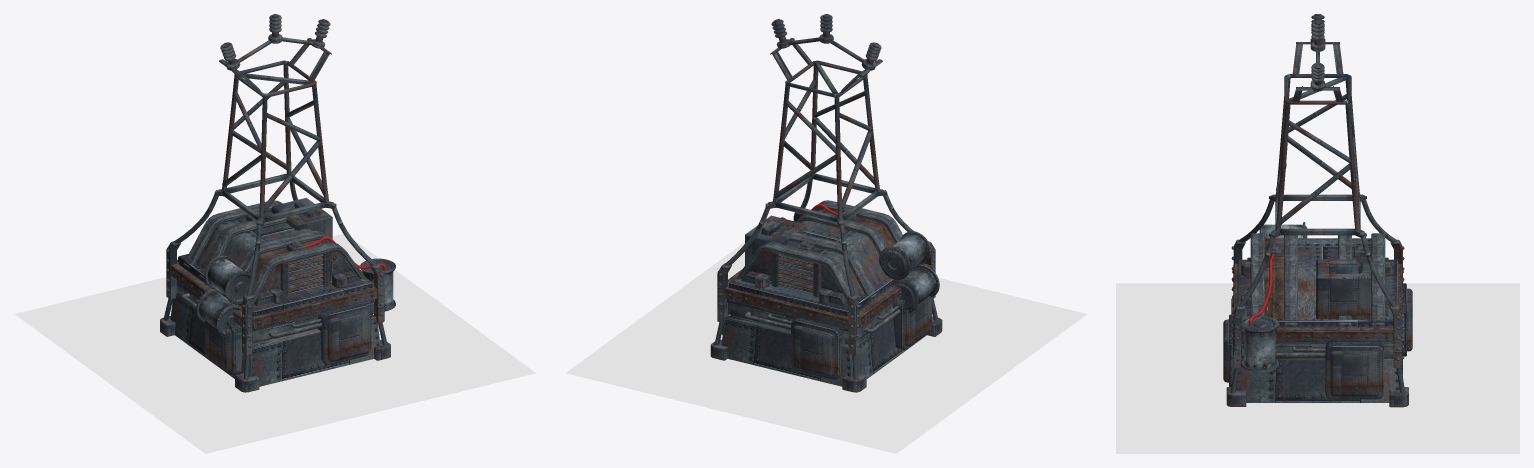
The model's file is static.glb.
The picture shows the model from 3 angles, left to right: view 1: azimuth 30°, elevation 25°; view 2: azimuth 150°, elevation 25°; view 3: azimuth 270°, elevation 25°; orthographic projection. The views are drawn at different scales.
Visible parts, largest first — view 1: scorch, Boole_2, Sweep_12, Cube_1_11, Cube, Cube_2, Sweep_13, Sweep_16, Boole, Sweep_14, Cube_2_3, Extrude (+13 smaller); view 2: scorch, Boole_2, Sweep_12, Cube_1_11, Cube_3, Cube_2_4, Sweep_14, Sweep_15, Cylinder_1_2, Boole, Extrude_3, Cube_2_3 (+12 smaller); view 3: scorch, Boole_2, Sweep_12, Cube_1_11, Boole, Cube_4, Cube_2_5, Sweep_15, Sweep_16, Cylinder_8, Extrude_4, Sweep_11 (+11 smaller).
Boxes of the visible parts, x1=… form: scorch: x1=15, y1=234, x2=535, y2=453; Boole_2: x1=170, y1=254, x2=380, y2=386; Sweep_12: x1=183, y1=200, x2=365, y2=305; Cube_1_11: x1=196, y1=210, x2=353, y2=293; Cube: x1=327, y1=310, x2=369, y2=361; Cube_2: x1=252, y1=286, x2=377, y2=328; Sweep_13: x1=243, y1=96, x2=267, y2=379; Sweep_16: x1=312, y1=84, x2=387, y2=345; Boole: x1=271, y1=198, x2=332, y2=239; Sweep_14: x1=163, y1=77, x2=238, y2=320; Cube_2_3: x1=205, y1=320, x2=231, y2=371; Extrude: x1=317, y1=303, x2=371, y2=364; scorch: x1=566, y1=242, x2=1086, y2=453; Boole_2: x1=721, y1=264, x2=926, y2=386; Sweep_12: x1=736, y1=200, x2=902, y2=306; Cube_1_11: x1=748, y1=209, x2=894, y2=298; Cube_3: x1=793, y1=325, x2=834, y2=376; Cube_2_4: x1=724, y1=286, x2=848, y2=328; Sweep_14: x1=834, y1=96, x2=858, y2=379; Sweep_15: x1=714, y1=84, x2=789, y2=345; Cylinder_1_2: x1=879, y1=231, x2=931, y2=279; Boole: x1=745, y1=215, x2=805, y2=265; Extrude_3: x1=791, y1=318, x2=844, y2=379; Cube_2_3: x1=905, y1=295, x2=931, y2=346; scorch: x1=1116, y1=283, x2=1519, y2=453; Boole_2: x1=1236, y1=259, x2=1402, y2=402; Sweep_12: x1=1250, y1=233, x2=1385, y2=324; Cube_1_11: x1=1264, y1=238, x2=1371, y2=317; Boole: x1=1316, y1=259, x2=1371, y2=319; Cube_4: x1=1330, y1=351, x2=1379, y2=396; Cube_2_5: x1=1242, y1=327, x2=1393, y2=341; Sweep_15: x1=1345, y1=102, x2=1405, y2=393; Sweep_16: x1=1230, y1=102, x2=1290, y2=393; Cylinder_8: x1=1244, y1=330, x2=1276, y2=369; Extrude_4: x1=1325, y1=342, x2=1383, y2=399; Sweep_11: x1=1284, y1=74, x2=1351, y2=104.
Size of the model in its own units: 8.93 by 8.67 by 8.93.
6 materials, 6 textured.
